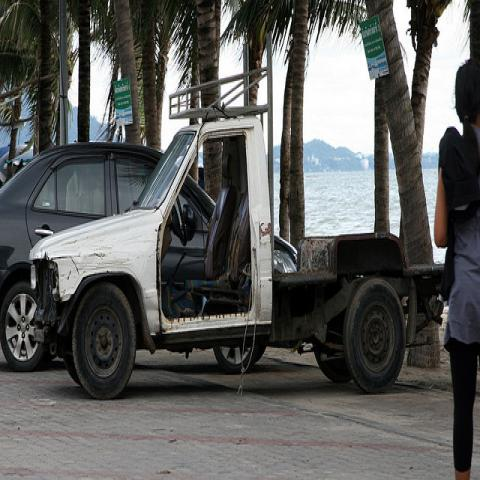car: (0, 141, 300, 370)
truck: (27, 68, 447, 400)
